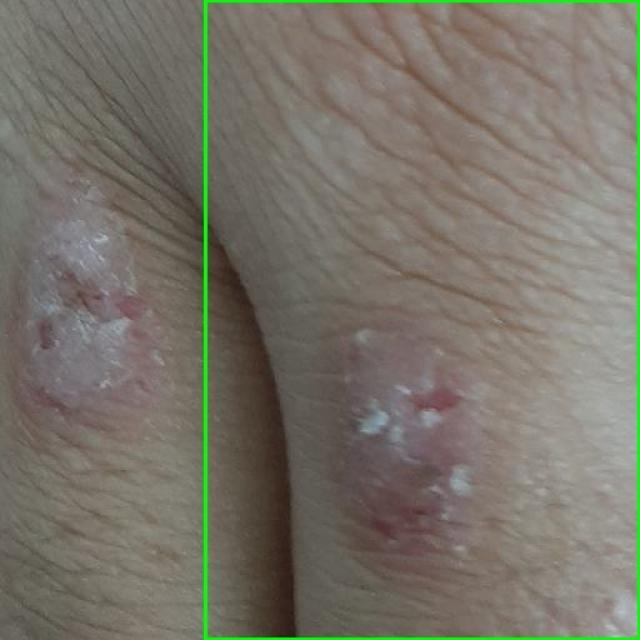Contact Dermatitis: (205, 0, 639, 639)
